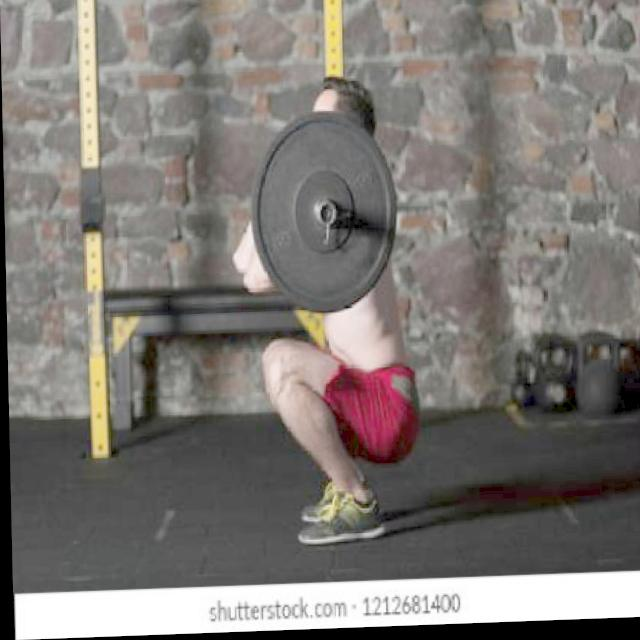barbell: (244, 109, 406, 326)
